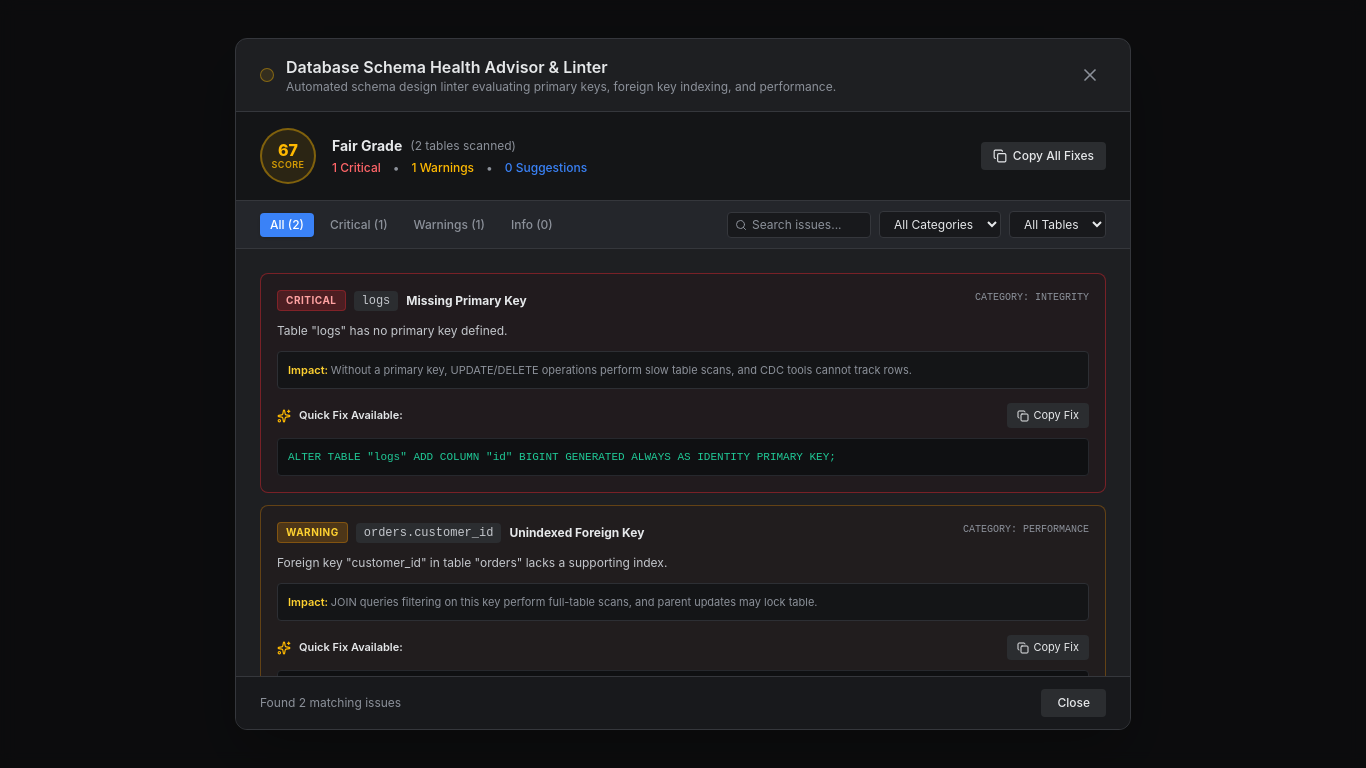
Test: SchemaHealthModal component › filters issues by severity tabs
The width and height of the screenshot is (1366, 768).
Note: Click Critical tab
Click the button with test id "health-filter-critical": [359, 225] box [320,213,398,237]
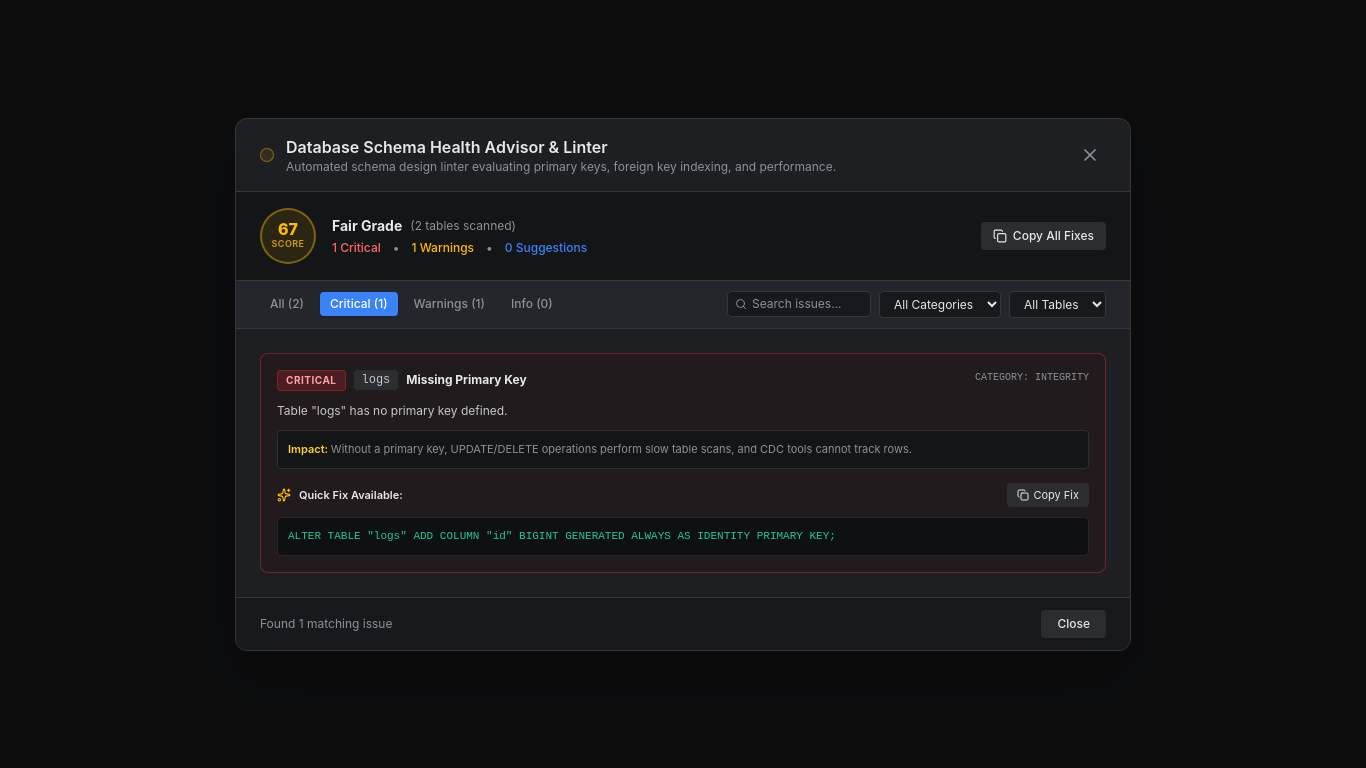
Expected: the heading "Missing Primary Key" is shown, [406,372,527,388]
Expected: the heading "Unindexed Foreign Key" is gone
Note: Click Warnings tab
Click the button with test id "health-filter-warning": [449, 304] box [404,292,495,316]
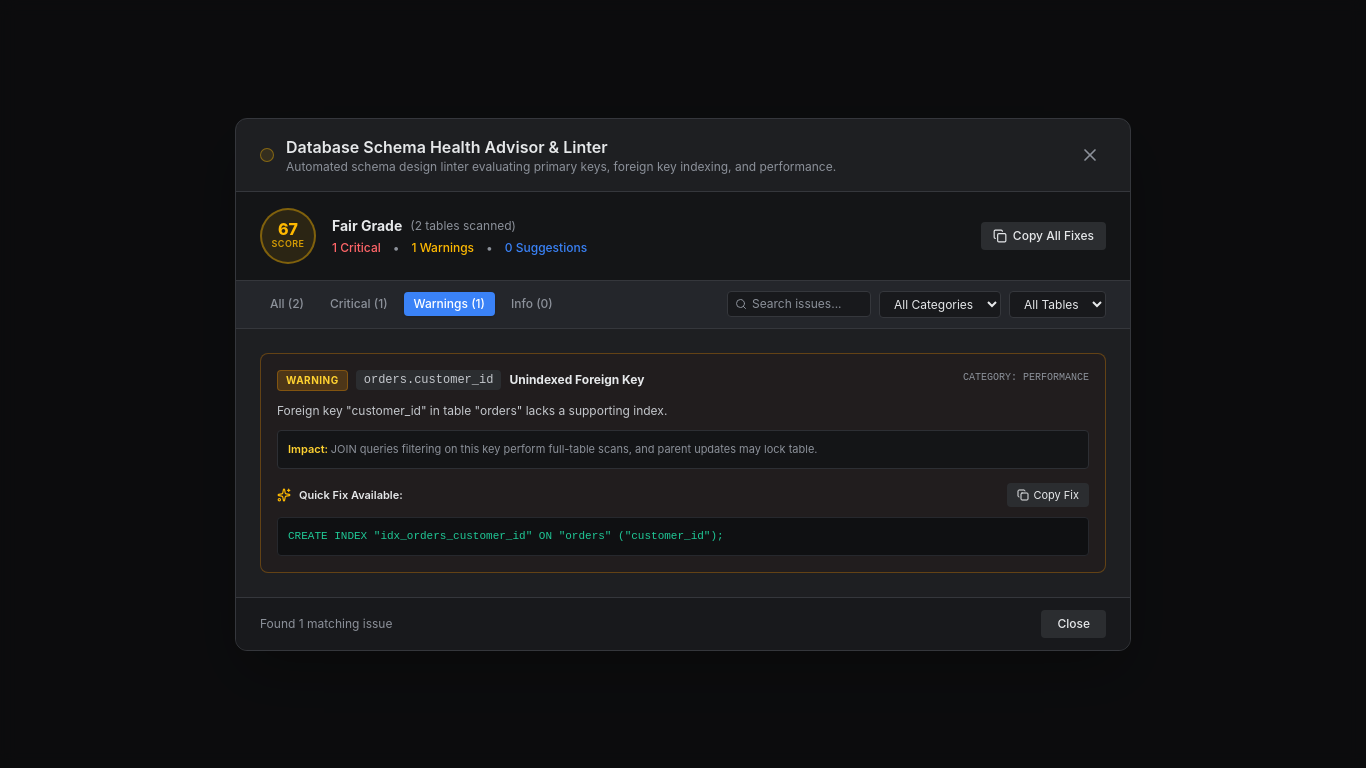
Expected: the heading "Unindexed Foreign Key" is shown, [509,372,644,388]
Expected: the heading "Missing Primary Key" is gone
